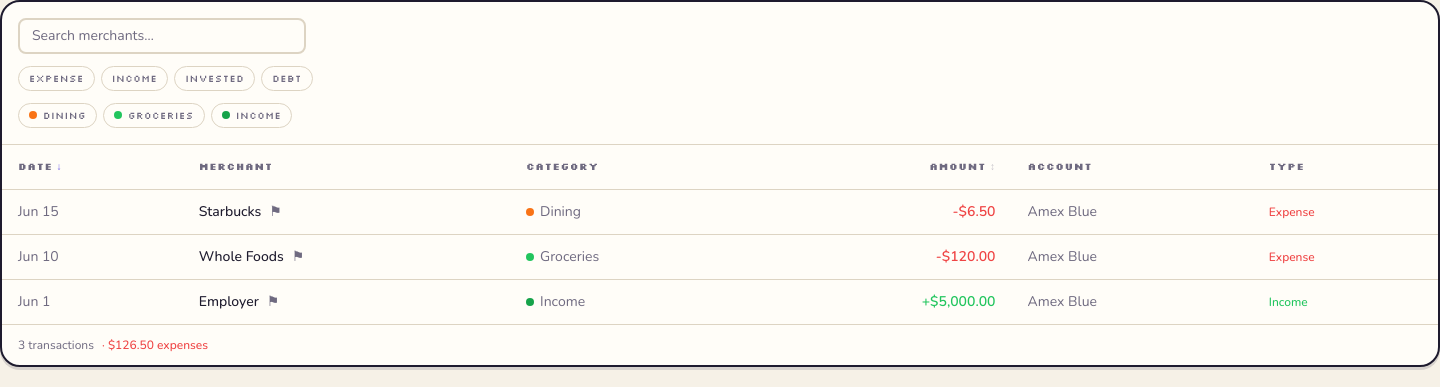
Test: TransactionTable — type filter › deselects type filter on second click
This screenshot has width=1440, height=387.
Click the button with aria-label "Filter by type: Expense". click: [56, 78]
box: [18,66,95,91]
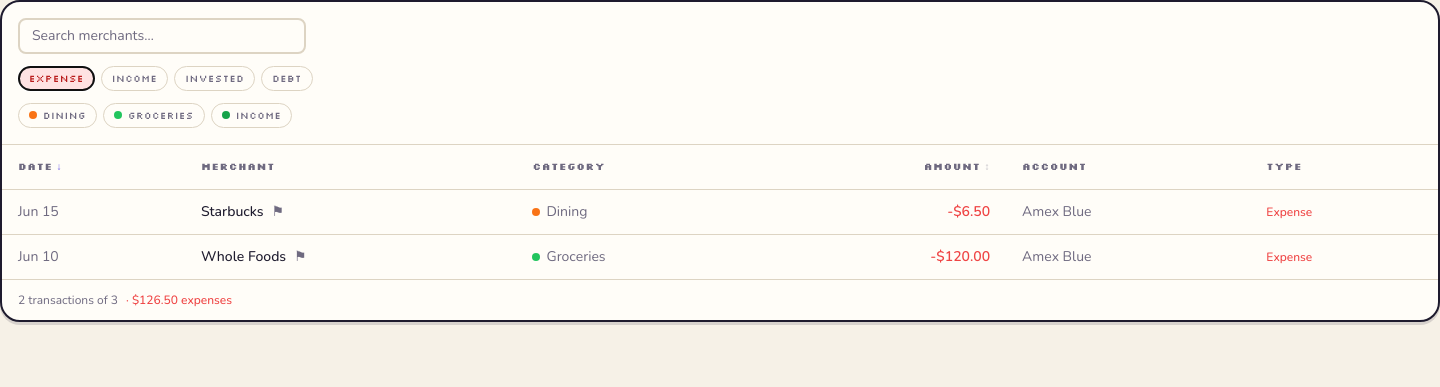
Click the button with aria-label "Filter by type: Expense". click: [56, 78]
box: [18,66,95,91]
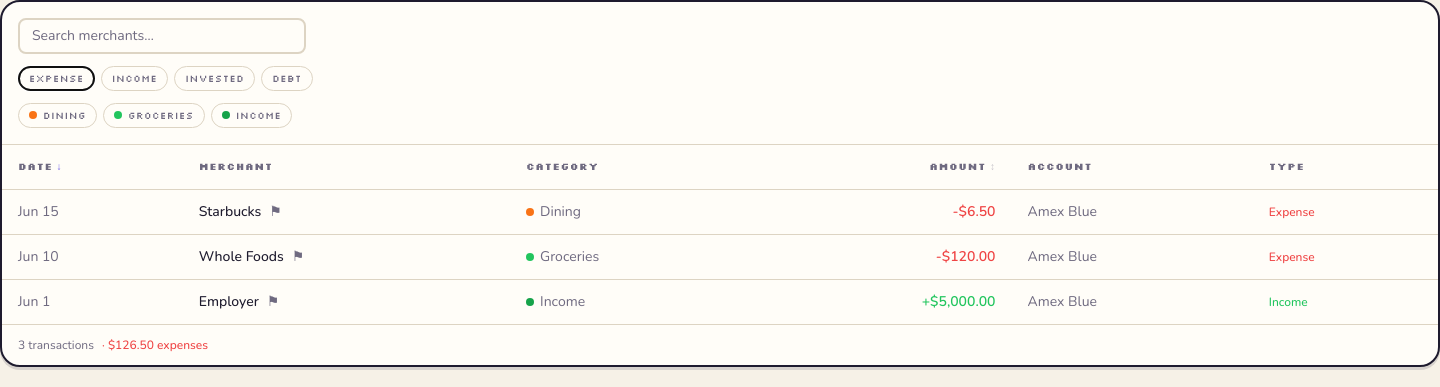
Expected: the text "Employer" is shown, [199,292,259,312]
